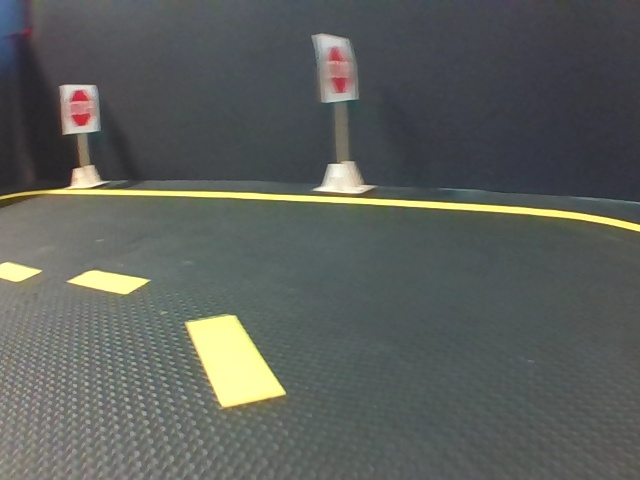stop: (316, 32, 356, 101), (60, 83, 99, 131)
